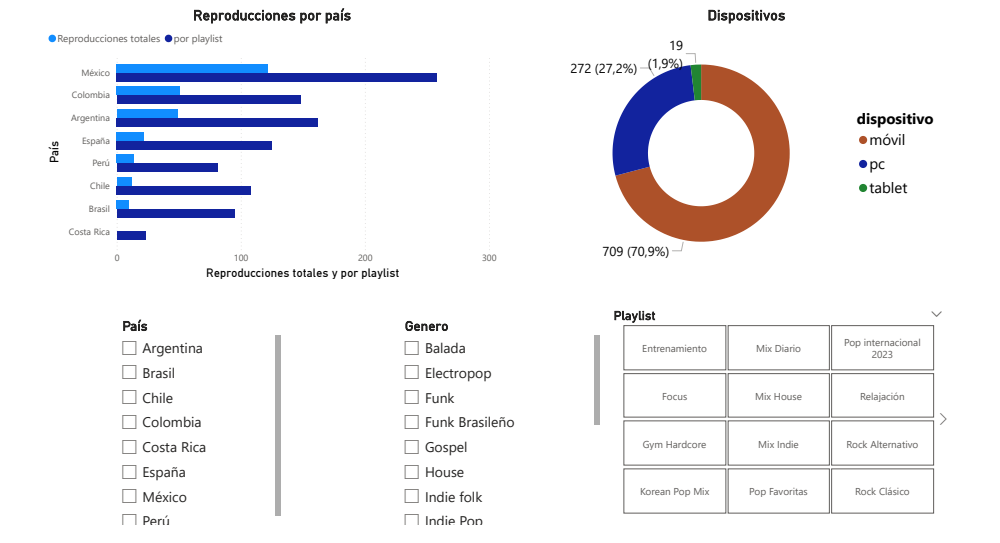

The dashboard page shown, as its layout file describes it:
{"tool":"powerbi","page":{"name":"Page 2","canvas":[1280,720],"ordinal":1},"visuals":[{"type":"slicer","fields":{"Values":["usuarios.pais"]},"box":[110.9,435.1,230.1,285.6],"z":0},{"type":"slicer","fields":{"Values":["canciones.genero"]},"box":[488.3,435,278.3,285],"z":1000},{"type":"clusteredBarChart","title":"Reproducciones por país","fields":{"Category":["usuarios.pais"],"Y":["artistas.Reproducciones Playlist","artistas.Total Reproducciones"]},"box":[20,25,608.3,368.3],"z":2000},{"type":"donutChart","title":"Dispositivos","fields":{"Category":["reproducciones.dispositivo"],"Y":["CountNonNull(reproducciones.id_reproduccion)"]},"box":[683.3,25,546.7,368.3],"z":3000},{"type":"slicer","fields":{"Values":["playlists.nombre"]},"box":[766,421.6,463.6,285.6],"z":5000}]}

Visuals, with their boxes on the page's 1280x720 design canvas (x1, y1, x2, y2). These are canvas units, not pixel positions in the 1000x543 screenshot, which may show the page scaled, cropped or inside an application window:
slicer - usuarios.pais: (111, 435, 341, 721)
slicer - canciones.genero: (488, 435, 767, 720)
"Reproducciones por país" clusteredBarChart: (20, 25, 628, 393)
"Dispositivos" donutChart: (683, 25, 1230, 393)
slicer - playlists.nombre: (766, 422, 1230, 707)
